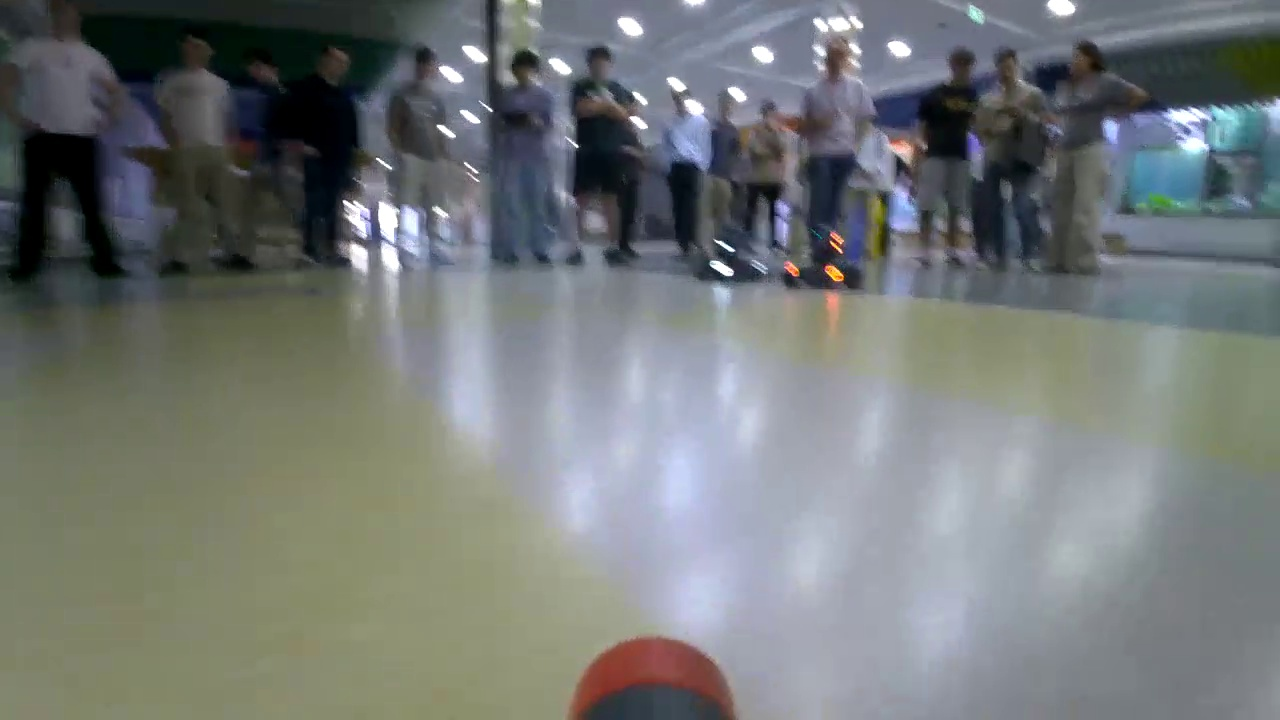robot: (782, 228, 865, 292), (698, 222, 772, 284)
